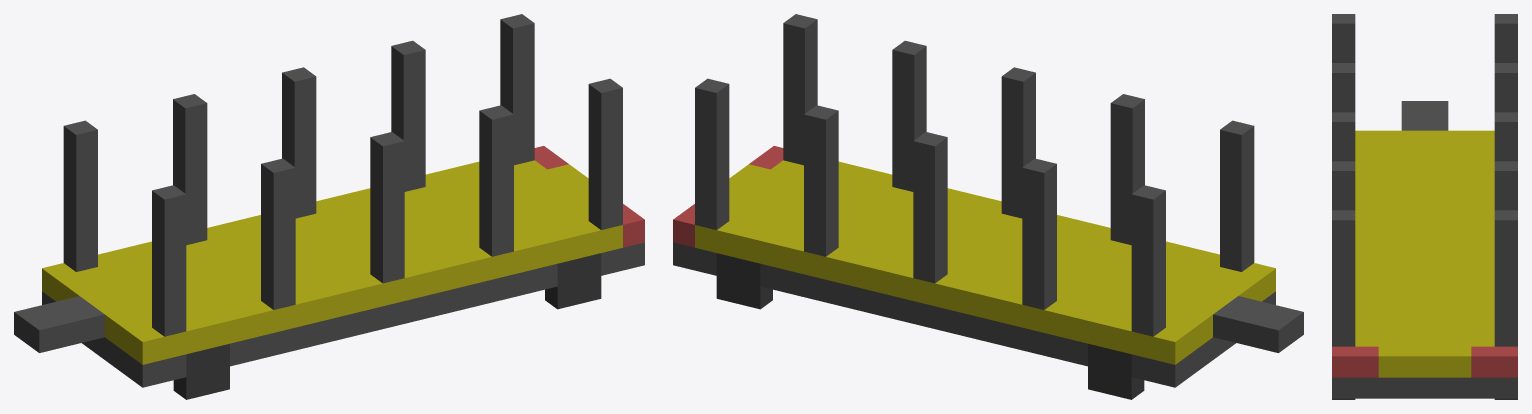
File: tractor-trailer-v3-yellow.gltf
3 views of the same model, side by side, from view 1: azimuth 30°, elevation 25°; view 2: azimuth 150°, elevation 25°; view 3: azimuth 270°, elevation 25° (orthographic). The views are drawn at different scales.
Parts seen in each view (by area): view 1: model, wheels; view 2: model, wheels; view 3: model.
Part boxes in pixels (bbox=[...]): model: bbox=[14, 14, 644, 399]; wheels: bbox=[173, 253, 601, 399]; model: bbox=[673, 14, 1303, 399]; wheels: bbox=[716, 253, 1144, 399]; model: bbox=[1332, 14, 1517, 399].
Bounding box in the file's own units: 2.6 × 0.9 × 0.8.
2 materials, 2 textured.
